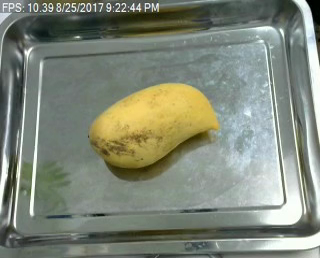Mango: (89, 81, 219, 172)
